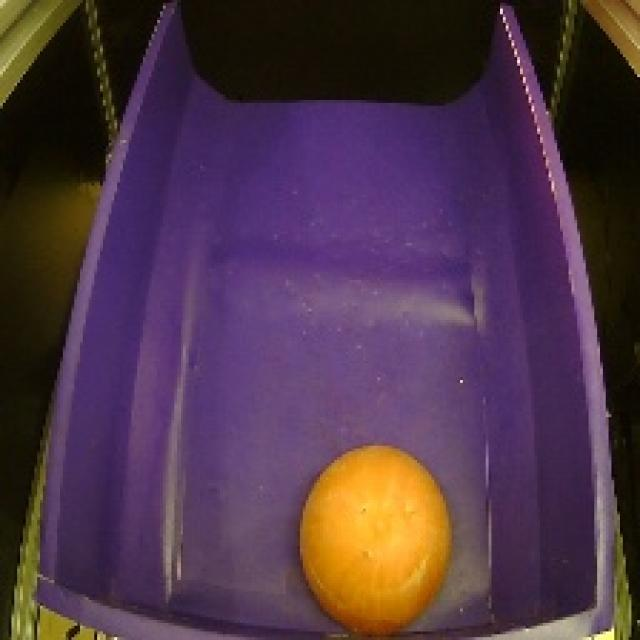carrots: (294, 438, 455, 640)
